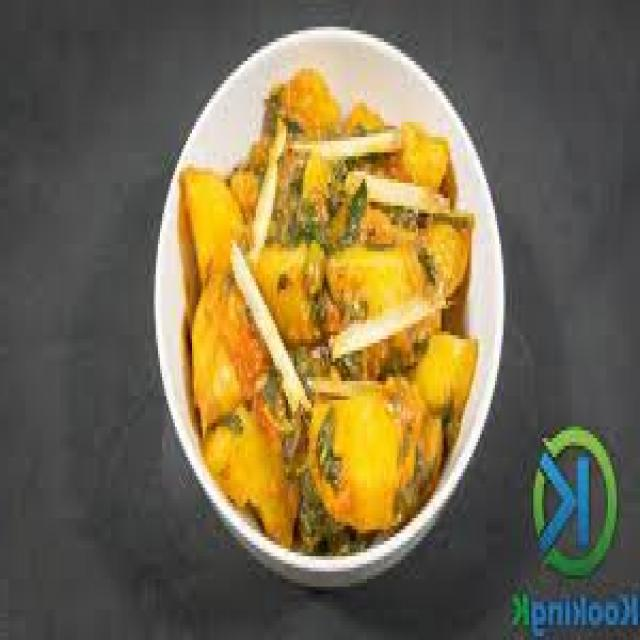Aloo Methi: (178, 70, 489, 548)
